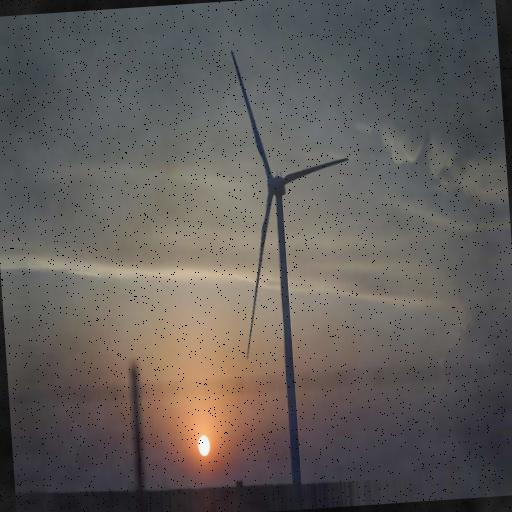wind turbine: (227, 48, 351, 484)
